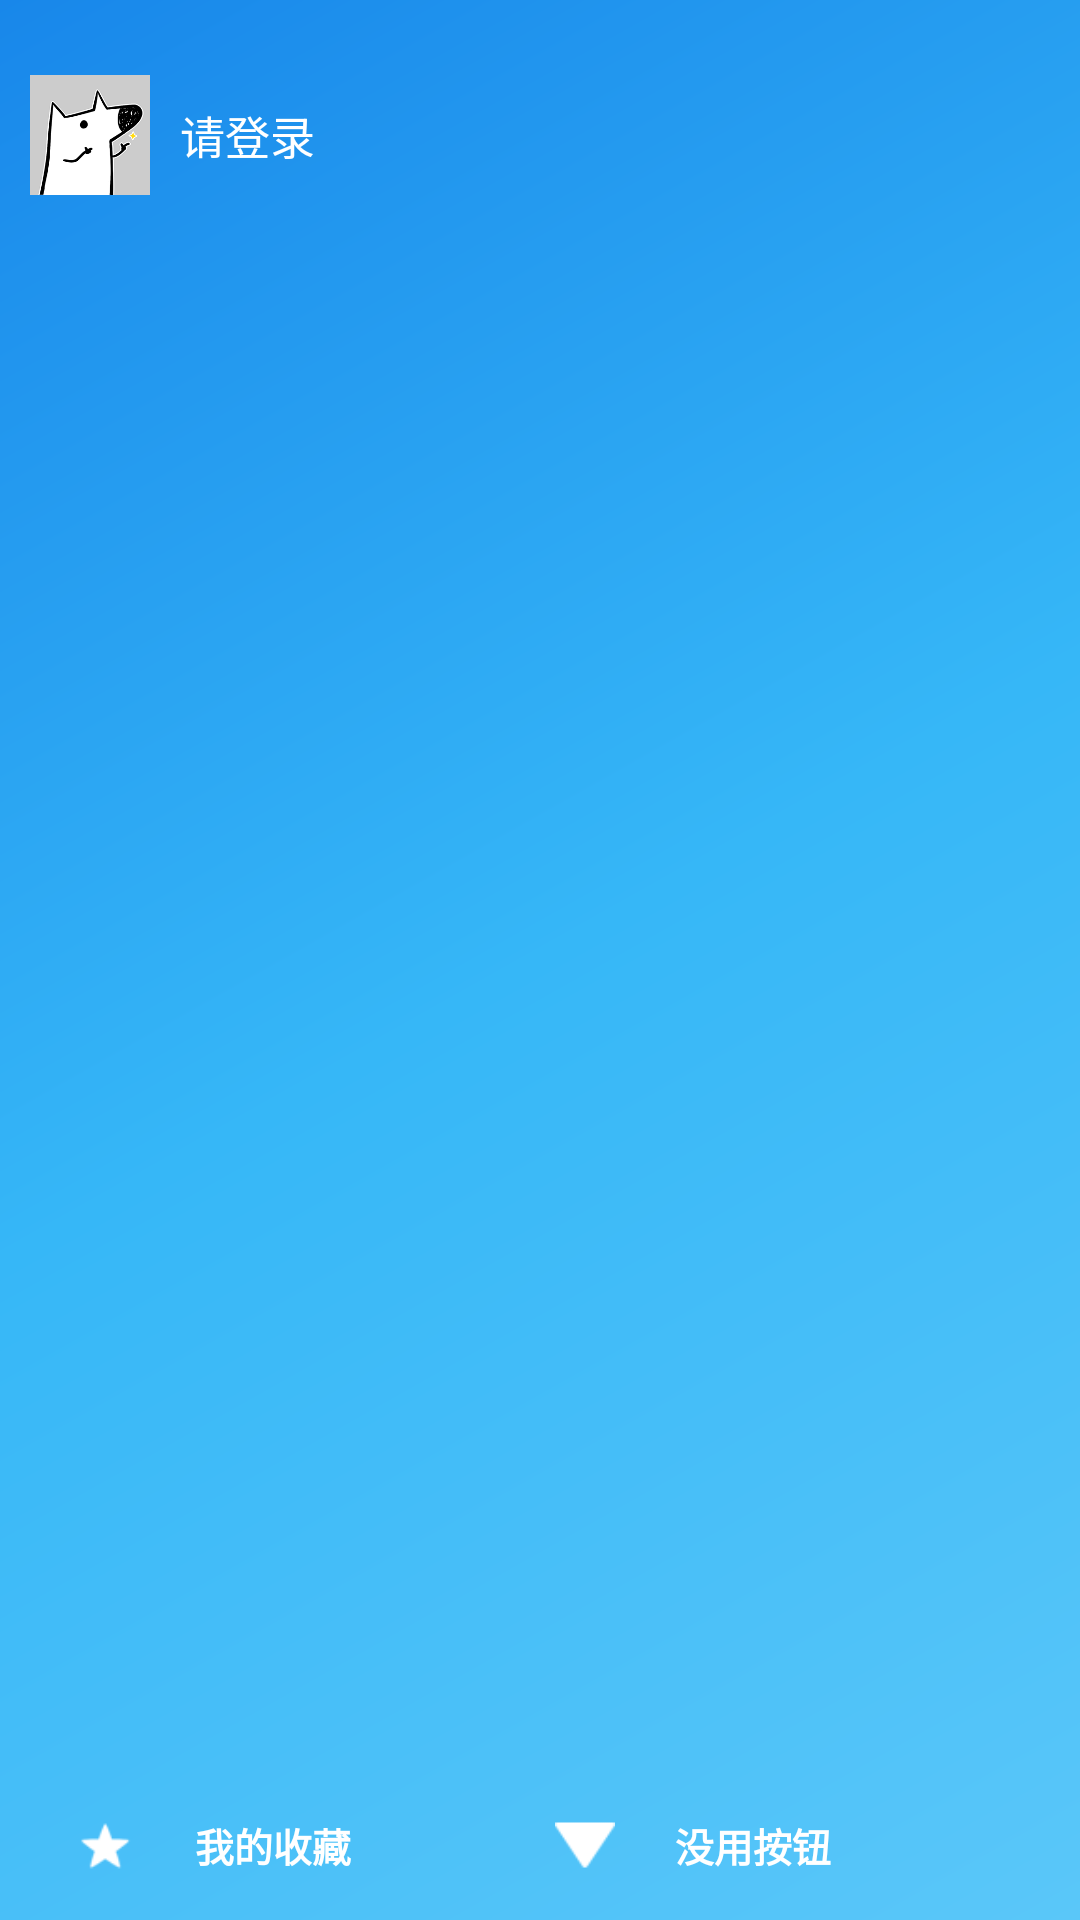

Screen size 1080x1920. Icon name, then its box in pixels as BBox(x1, y1, x2, y2):
collection false: BBox(81, 1823, 129, 1868)
vote down: BBox(555, 1822, 615, 1868)
